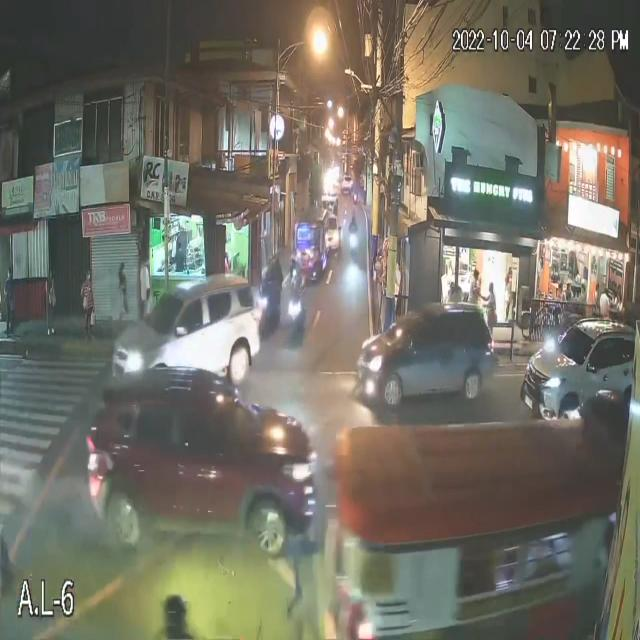Full-Faced: (289, 250, 303, 272), (268, 249, 278, 267)
